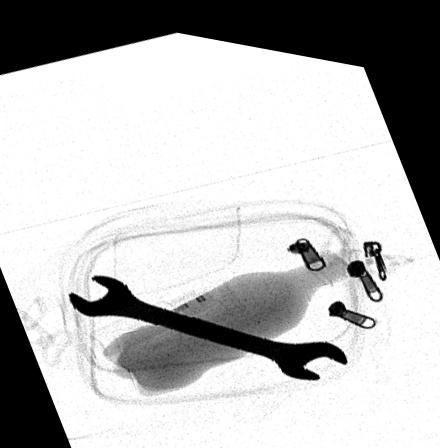Wrench: (67, 269, 346, 370)
